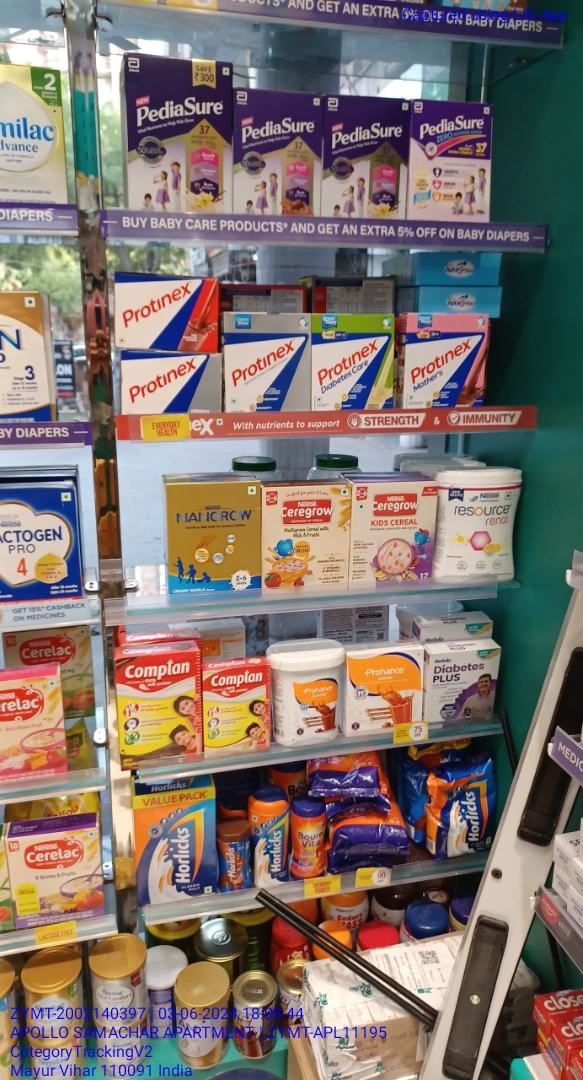BOURN_VITA_500_G_JAR: (292, 804, 323, 881)
COMPLAN_CHOCOLATE_500_GMS_PACK: (116, 655, 201, 754)
COMPLAN_KESAR_BADAM_200_GMS_PACK: (203, 670, 272, 748)
HORLICK_CHOCOLATE_200_G_JAR: (219, 828, 253, 889)
HORLICK_CLASSIC_MALT_500_G_JAR: (256, 796, 288, 884)
PEDIASURE_CHOCOLATE_500_G_PACK: (235, 89, 321, 216)
PEDIASURE_VANILLA_500_G_PACK: (125, 61, 231, 215), (325, 94, 405, 219)
